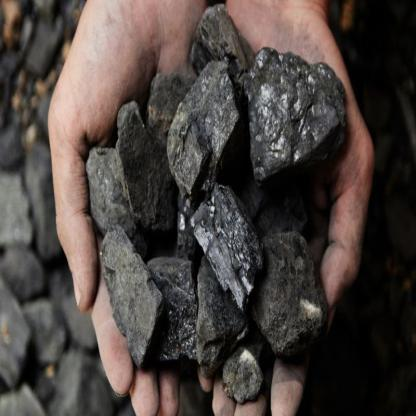Sedimentary_coal: (246, 42, 346, 192), (164, 57, 238, 194), (182, 204, 259, 305), (266, 233, 324, 365), (97, 225, 160, 344), (114, 100, 161, 224)
